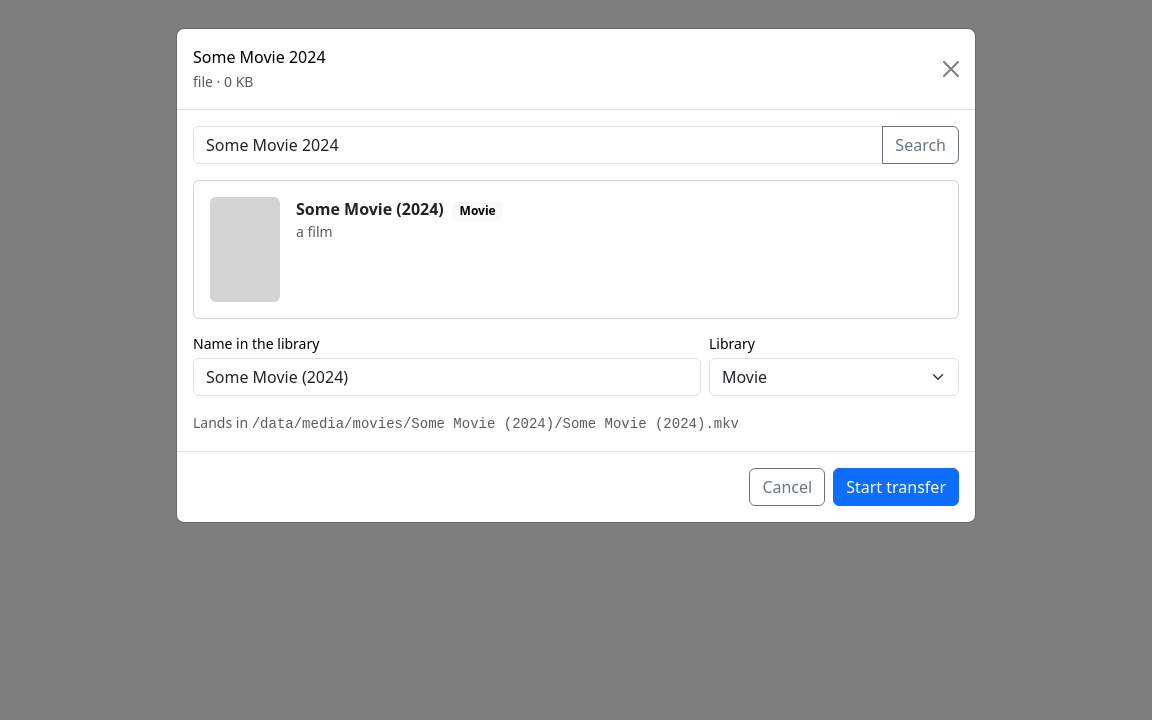
Scenario: previews the destination of a corrected name
Expected: the text "/data/media/movies/Some Movie (2024)/Some Movie (2024).mkv" is shown, [252,416,739,432]
Select "Cartoon" in the dropdown labelled "Library". click: (834, 377)
box: [709,358,959,396]
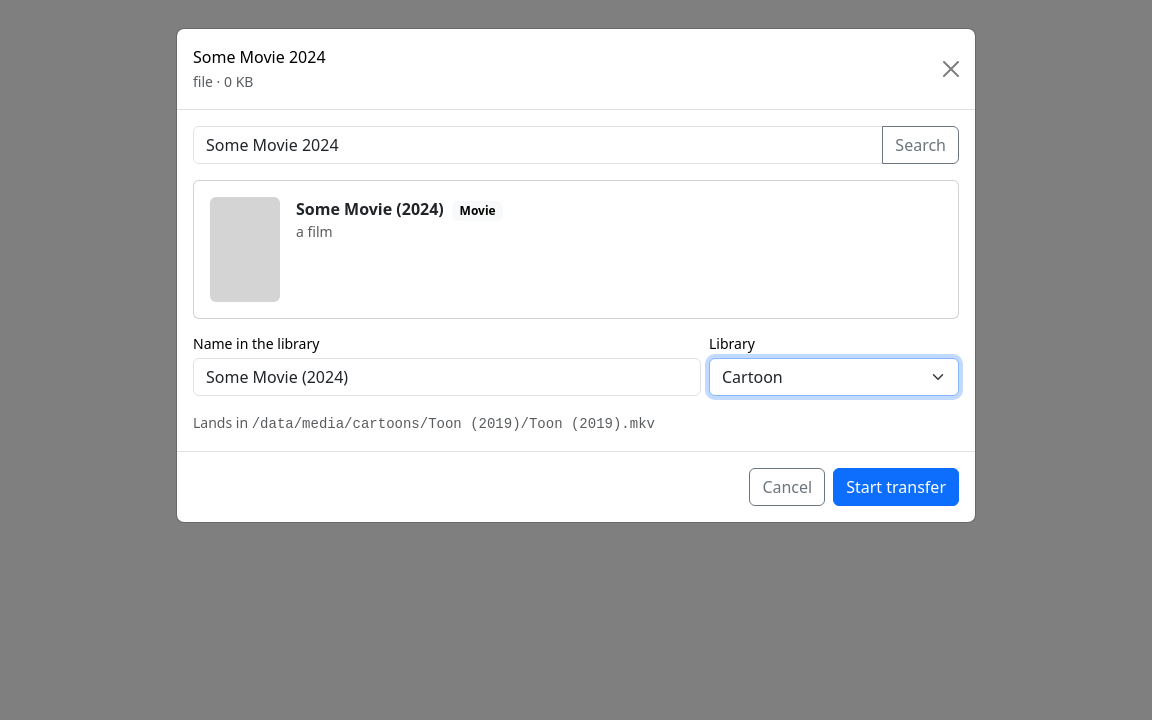
Expected: the text "/data/media/cartoons/Toon (2019)/Toon (2019).mkv" is shown, [252,416,655,432]
